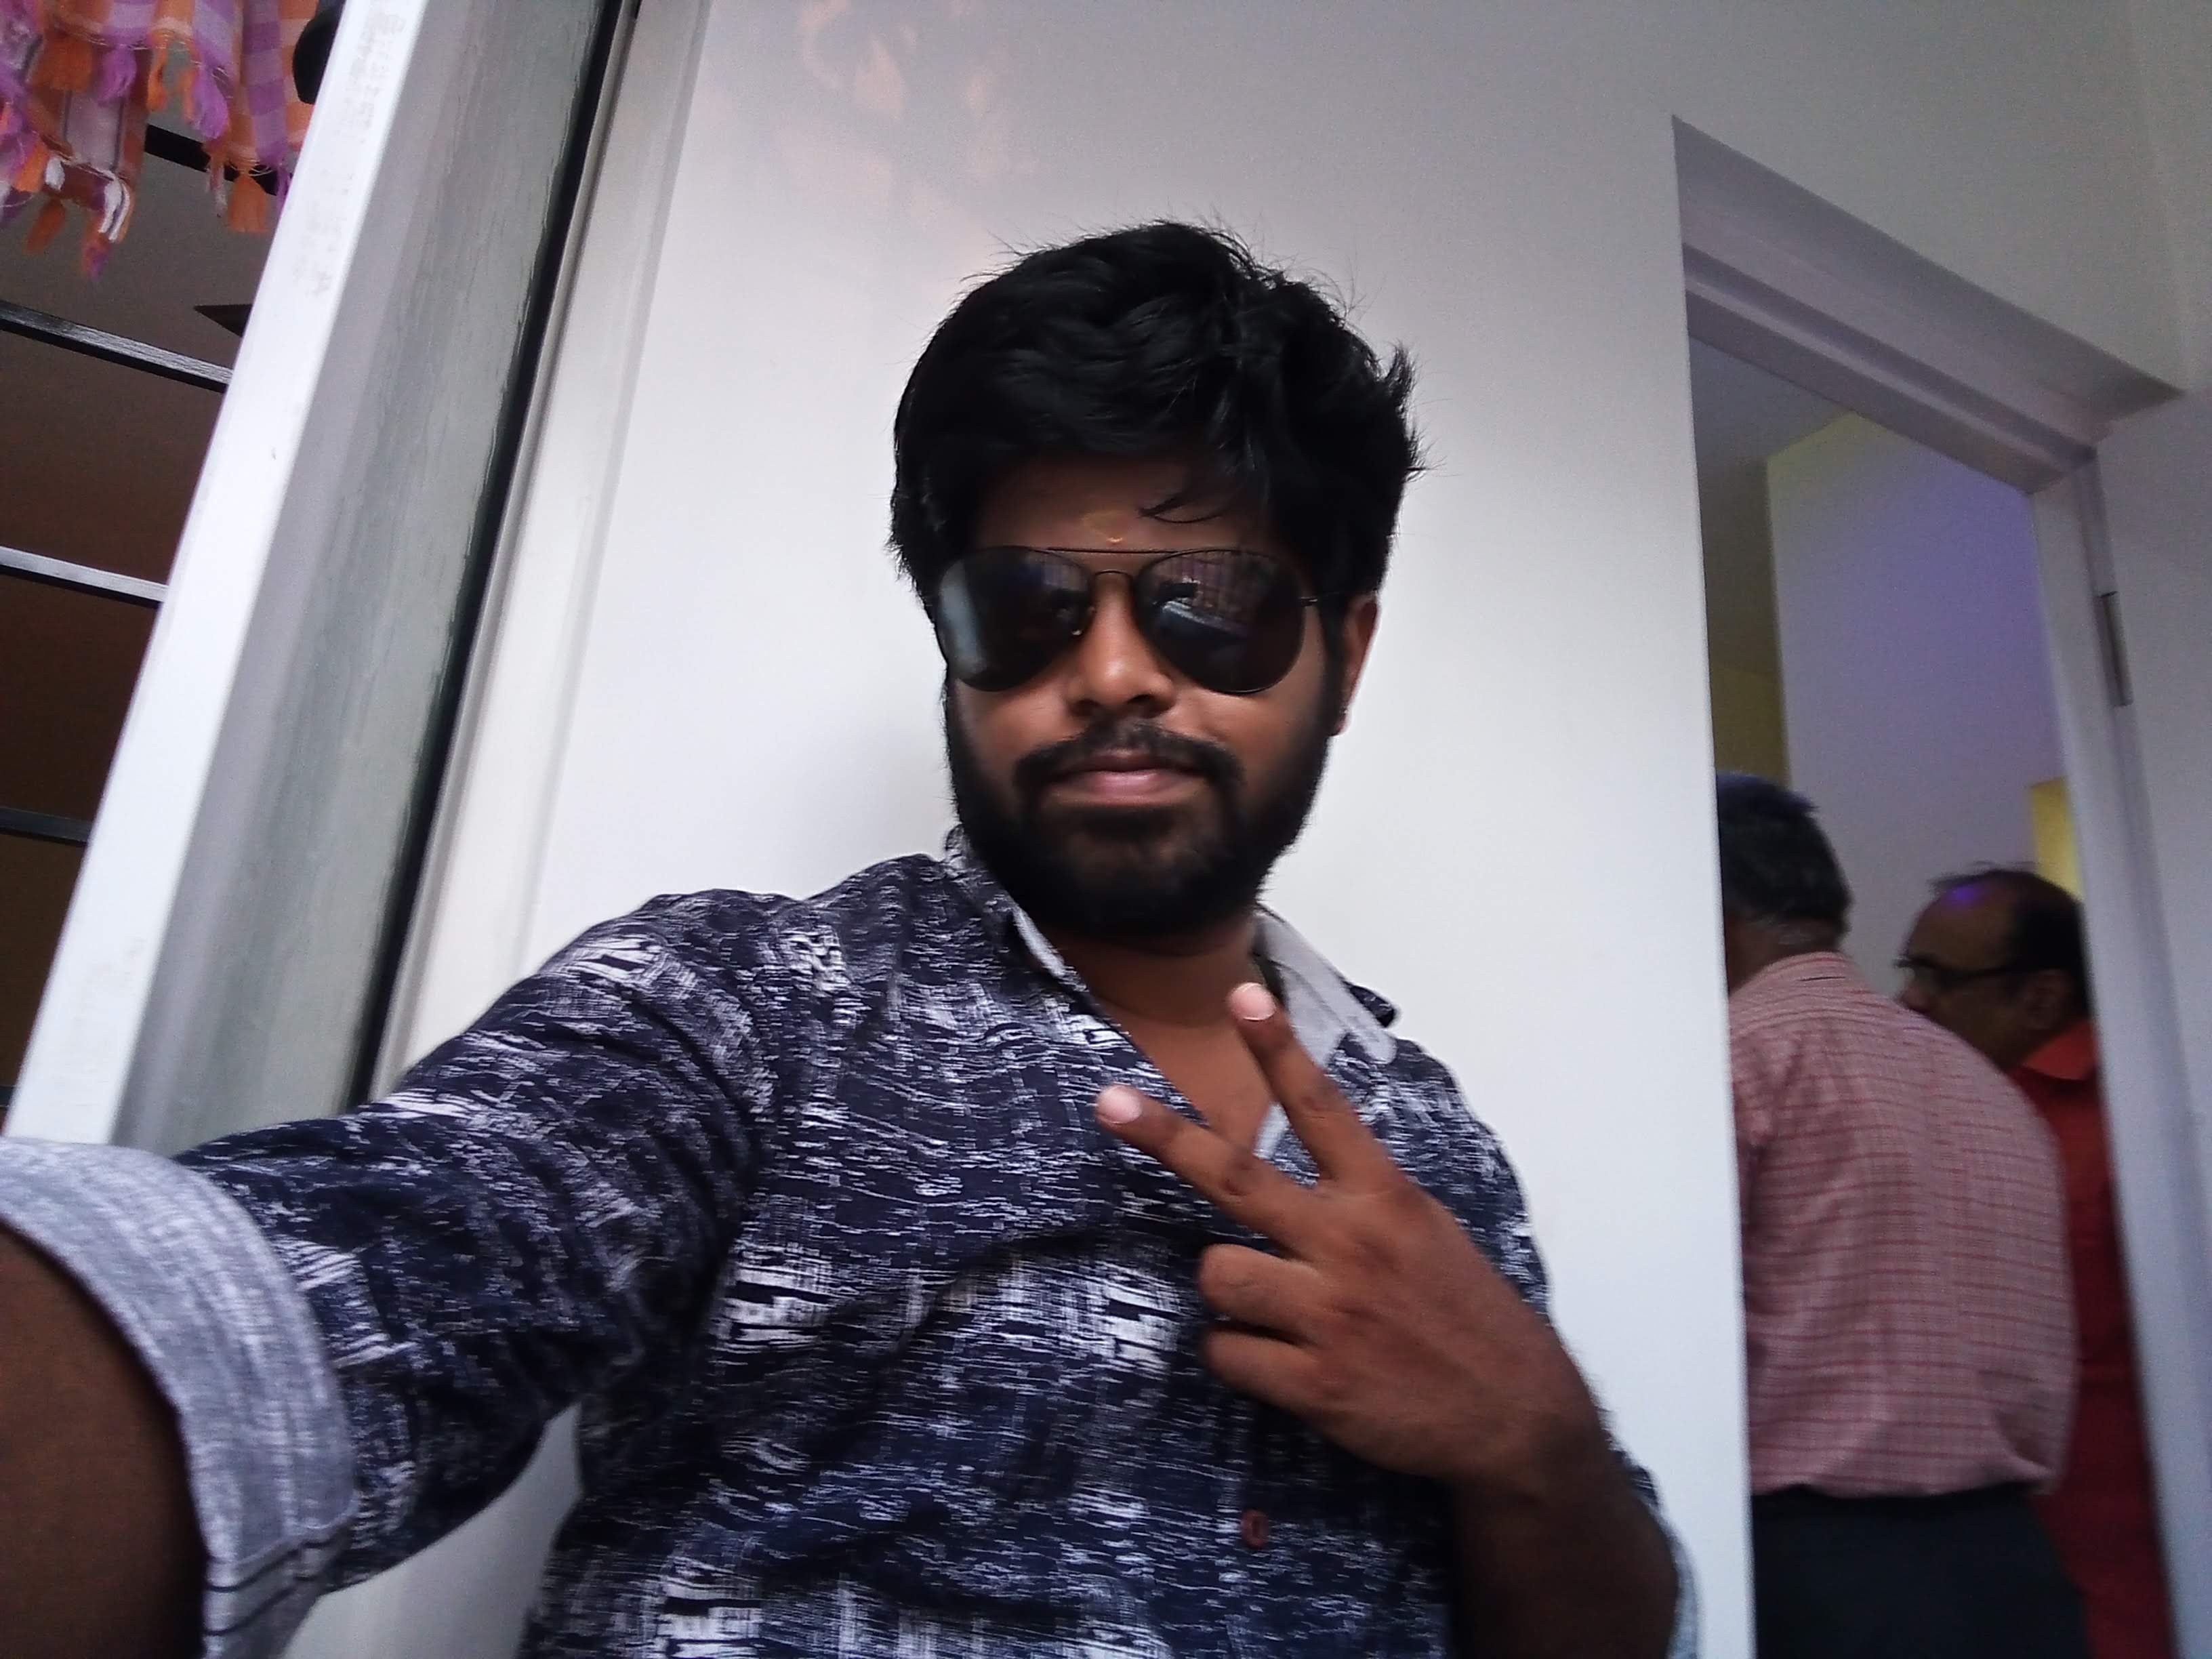face: (857, 186, 1425, 905)
